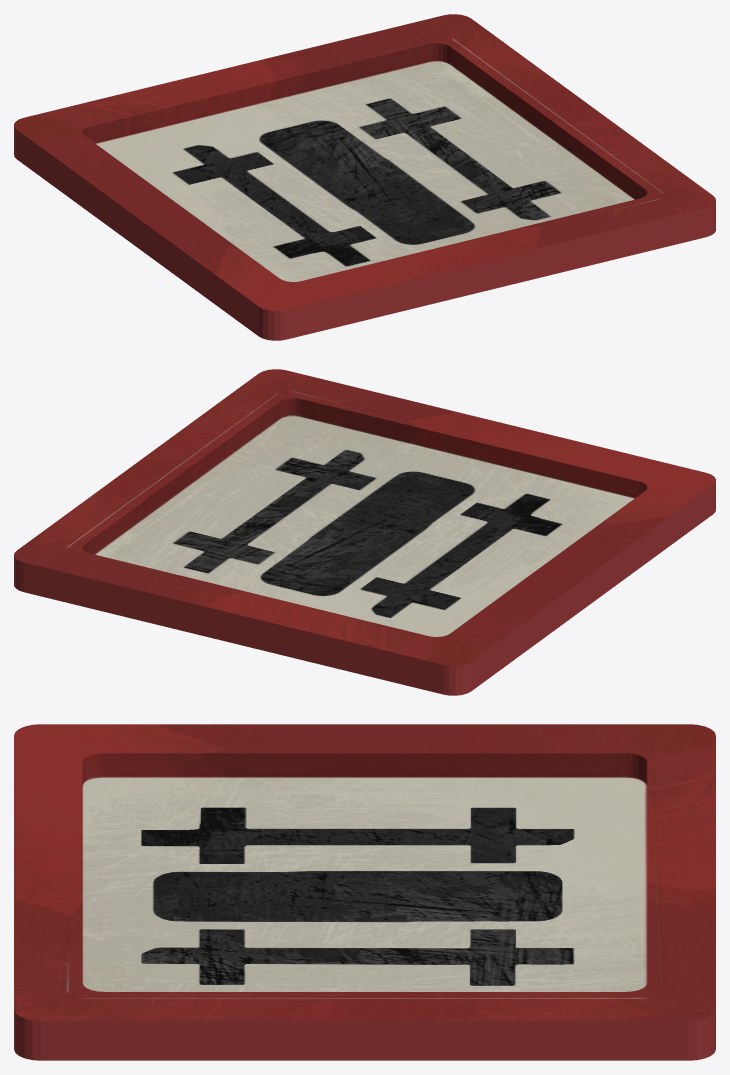
The picture shows the model from 3 angles, top to bottom: view 1: azimuth 30°, elevation 25°; view 2: azimuth 150°, elevation 25°; view 3: azimuth 270°, elevation 25°; orthographic projection. The views are drawn at different scales.
Visible parts, largest first — view 1: Cube.003; view 2: Cube.003; view 3: Cube.003.
Boxes of the visible parts, box(x1,y1,x2,y2) form: Cube.003: box(14, 14, 715, 340); Cube.003: box(14, 369, 715, 695); Cube.003: box(14, 724, 715, 1060).
Size of the model in its own units: 170 by 10.66 by 170.
3 materials, 1 textured.
